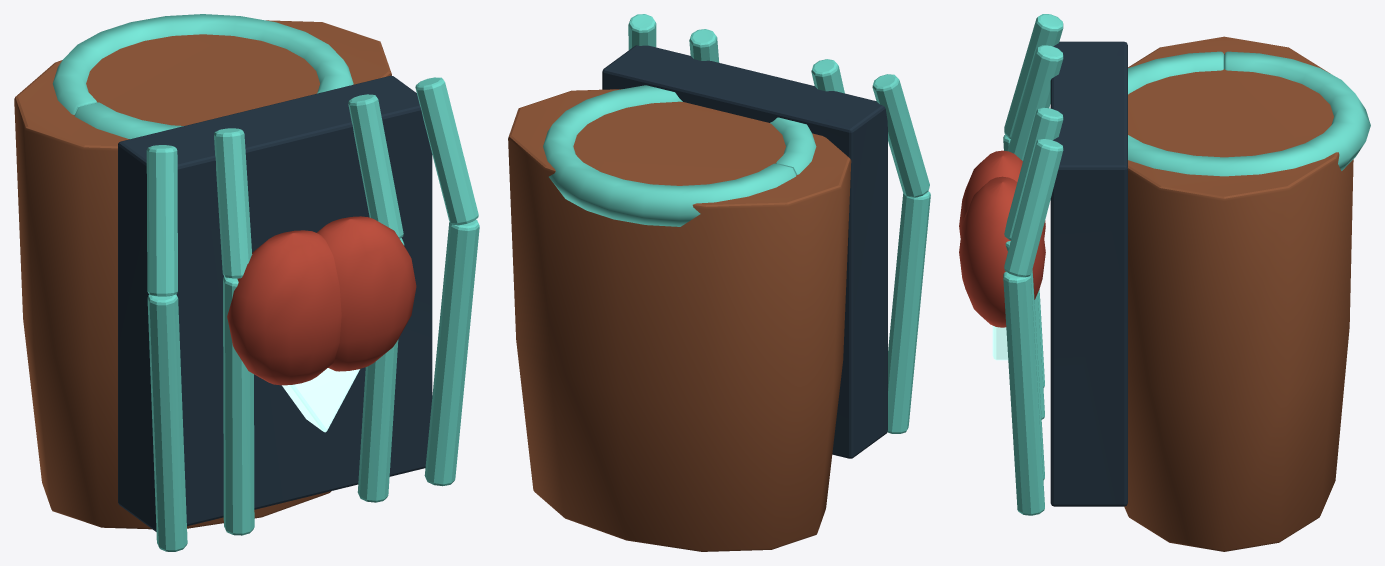
Rendered from item_057.glb.
3 renders of one model, left to right at view 1: azimuth 30°, elevation 25°; view 2: azimuth 150°, elevation 25°; view 3: azimuth 270°, elevation 25°, orthographic. The views are drawn at different scales.
Parts seen in each view (by area): view 1: Item_057_engine_heartplate; view 2: Item_057_engine_heartplate; view 3: Item_057_engine_heartplate.
Part boxes in pixels (x1=…): Item_057_engine_heartplate: x1=14, y1=14, x2=479, y2=551; Item_057_engine_heartplate: x1=508, y1=14, x2=930, y2=551; Item_057_engine_heartplate: x1=959, y1=14, x2=1370, y2=551.
Bounding box in the file's own units: 0.3997 × 0.463 × 0.427.
